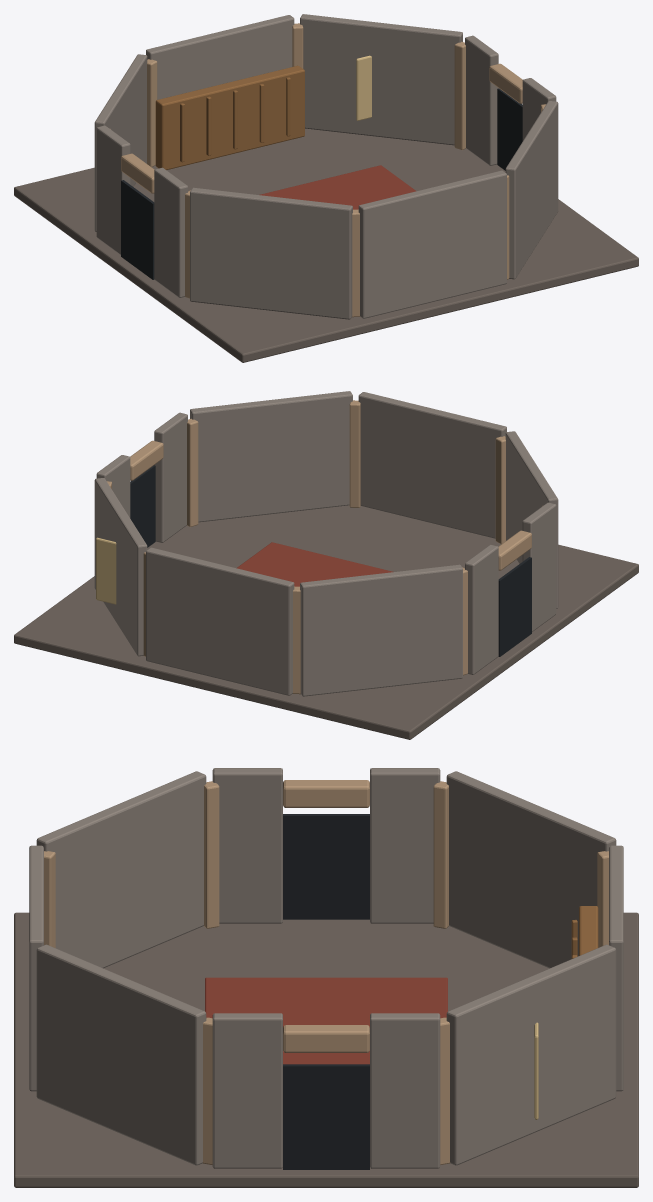
The model's file is practice_arena_3982.glb.
3 renders of one model, top to bottom at view 1: azimuth 30°, elevation 25°; view 2: azimuth 150°, elevation 25°; view 3: azimuth 270°, elevation 25°, orthographic. The views are drawn at different scales.
Parts seen in each view (by area): view 1: Room floor, SW solid wall, S solid wall, NE solid wall, North weapon rack, N solid wall, SE solid wall, W doorway left, E doorway left, NW solid wall, Combat practice mat, W doorway right (+11 smaller); view 2: Room floor, NW solid wall, SE solid wall, N solid wall, S solid wall, NE solid wall, W doorway right, E doorway right, SW solid wall, Combat practice mat, W doorway left, W passage shadow (+10 smaller); view 3: Room floor, SE solid wall, NE solid wall, SW solid wall, NW solid wall, E doorway left, E doorway right, Combat practice mat, W doorway left, W doorway right, E passage shadow, W passage shadow (+11 smaller).
Boxes of the visible parts, box(x1,y1,x2,y2) form: Room floor: box(14, 128, 638, 362); SW solid wall: box(190, 187, 352, 319); S solid wall: box(358, 170, 506, 318); NE solid wall: box(300, 14, 462, 145); North weapon rack: box(155, 65, 304, 169); N solid wall: box(146, 15, 294, 99); SE solid wall: box(505, 101, 558, 279); W doorway left: box(154, 167, 187, 297); E doorway left: box(465, 35, 498, 165); NW solid wall: box(94, 54, 147, 231); Combat practice mat: box(259, 165, 416, 209); W doorway right: box(96, 125, 130, 254); Room floor: box(14, 505, 638, 739); NW solid wall: box(300, 564, 462, 696); SE solid wall: box(190, 391, 352, 522); N solid wall: box(146, 547, 294, 695); S solid wall: box(358, 392, 506, 538); NE solid wall: box(94, 478, 147, 656); W doorway right: box(465, 544, 498, 674); E doorway right: box(154, 412, 187, 542); SW solid wall: box(505, 431, 558, 608); Combat practice mat: box(236, 542, 393, 586); W doorway left: box(522, 502, 556, 631); W passage shadow: box(498, 557, 531, 656); Room floor: box(14, 912, 638, 1187); SE solid wall: box(36, 944, 206, 1165); NE solid wall: box(446, 944, 616, 1165); SW solid wall: box(36, 771, 206, 968); NW solid wall: box(446, 771, 616, 968); E doorway left: box(370, 1013, 440, 1168); E doorway right: box(212, 1013, 282, 1168); Combat practice mat: box(205, 977, 447, 1064); W doorway left: box(212, 768, 282, 923); W doorway right: box(370, 768, 440, 923); E passage shadow: box(283, 1064, 369, 1169); W passage shadow: box(283, 814, 369, 919).
Size of the model in its own units: 18 by 5.2 by 18.
